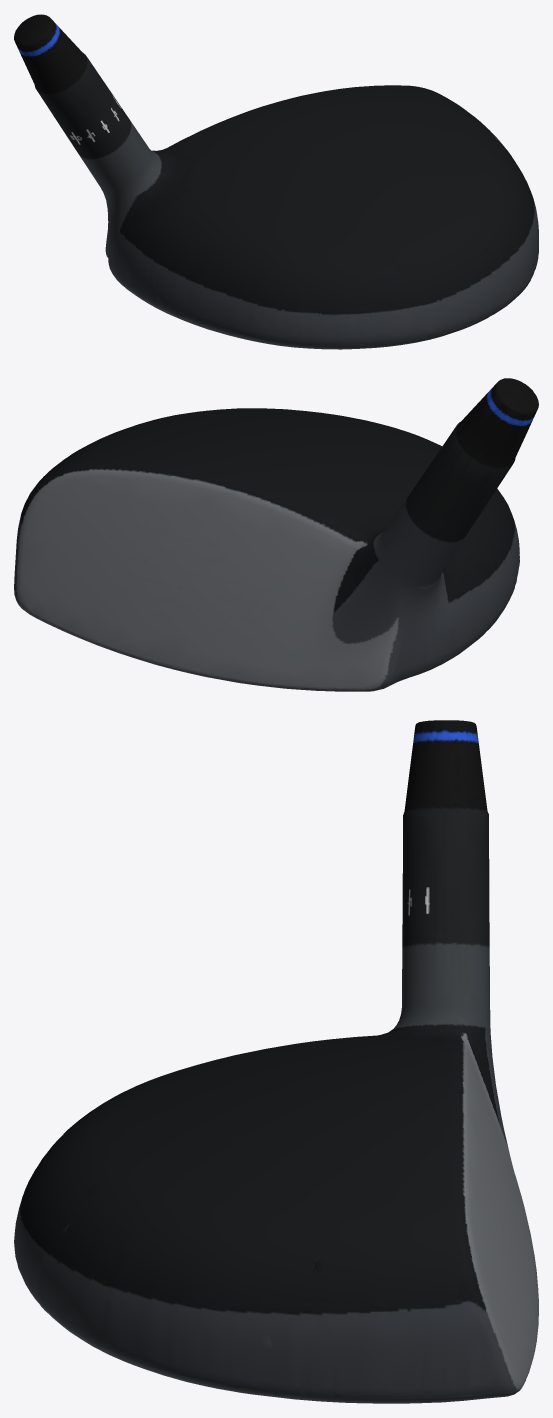
3 renders of one model, top to bottom at view 1: azimuth 30°, elevation 25°; view 2: azimuth 150°, elevation 25°; view 3: azimuth 270°, elevation 25°, orthographic. The views are drawn at different scales.
Visible parts, largest first — view 1: head; view 2: head; view 3: head.
Part boxes in pixels (<box>): head: <box>14,14,538,349</box>; head: <box>14,378,538,691</box>; head: <box>14,720,538,1403</box>.
Size of the model in its own units: 0.1184 by 0.0736 by 0.0834.
Materials: 1 (1 with a texture image).
